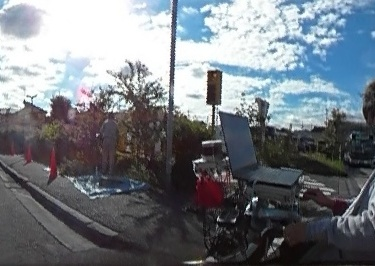person: (295, 66, 375, 266), (99, 111, 118, 175)
